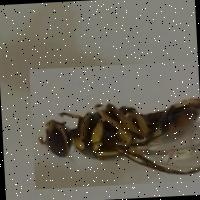Oriental-fruit-fly: (28, 60, 200, 189)
